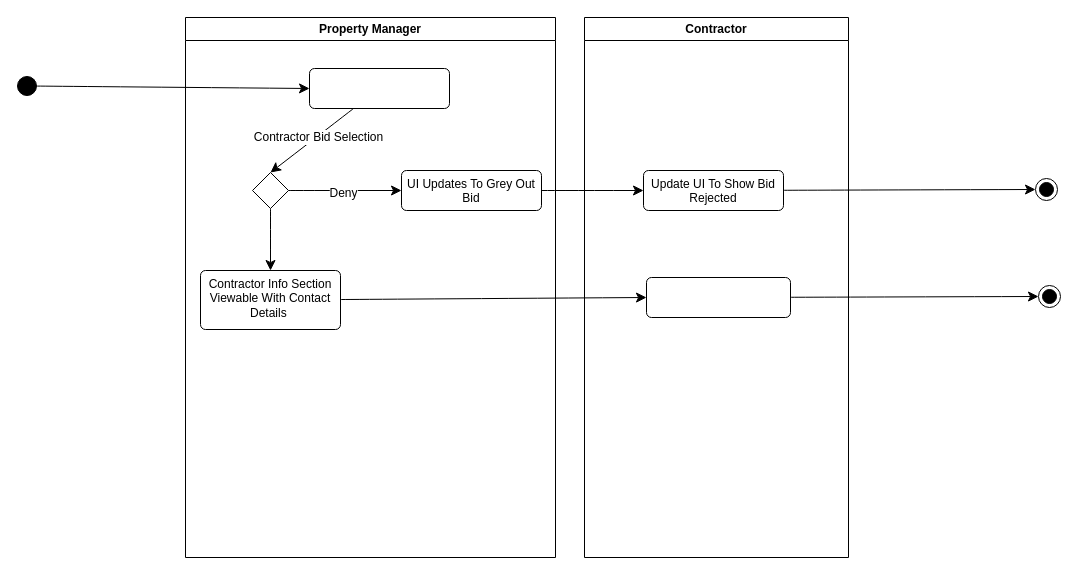
The diagram is 1078 pixels wide and 575 high, and some of its shapes have lost their labels. The centre of each missing label's shape, as x and y in pixels:
Update UI To Show Bid Accepted: point (718, 297)
View Bids On Detailed Page: point (379, 88)
